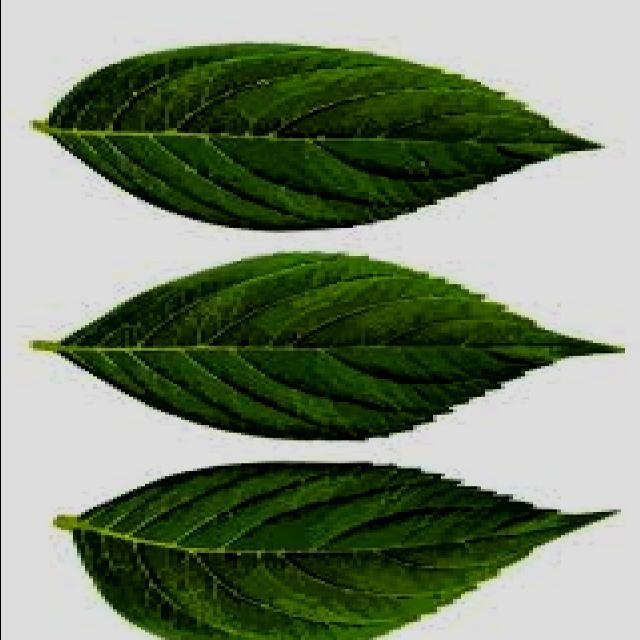leaf: (28, 249, 625, 441), (28, 40, 605, 231), (51, 460, 621, 638)
